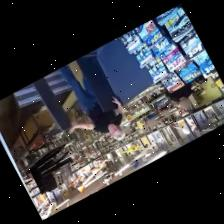person: (59, 65, 124, 139), (165, 83, 191, 108)
